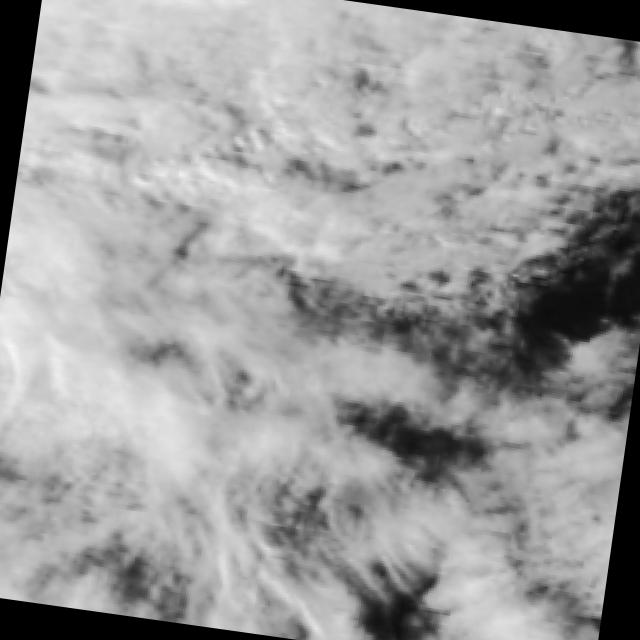CB: (7, 56, 245, 281), (0, 251, 217, 477), (24, 0, 281, 157)
